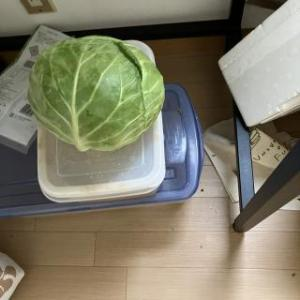cabbage: (24, 35, 166, 154)
